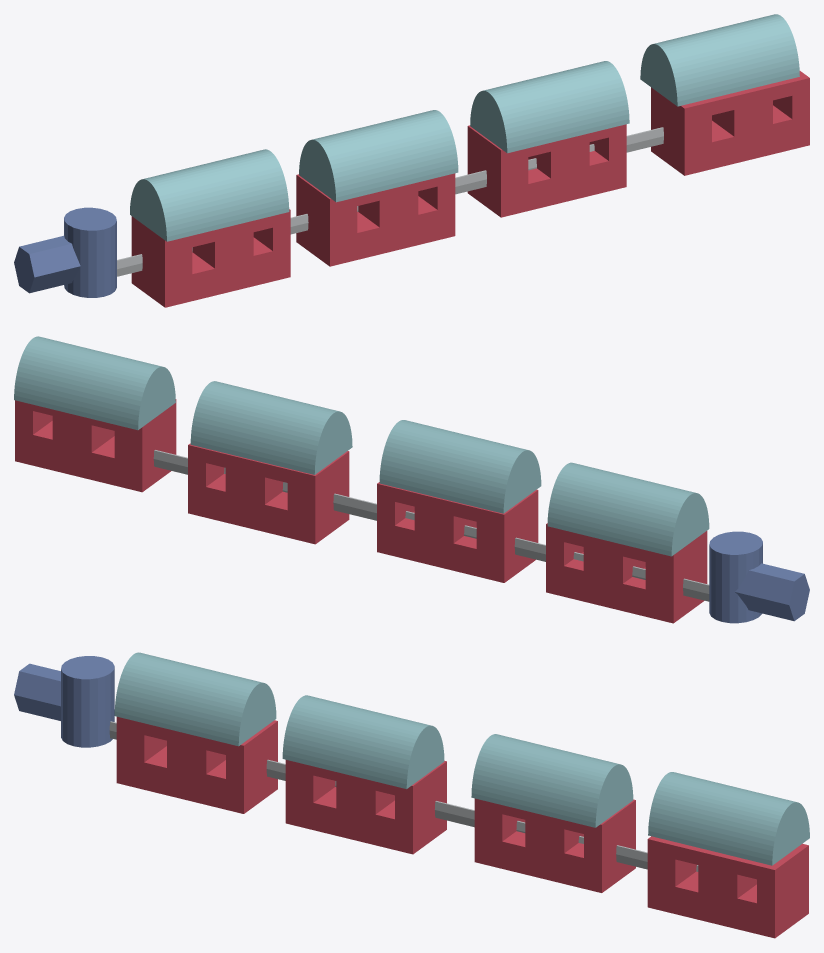
Rendered from pro150.glb.
3 renders of one model, top to bottom at view 1: azimuth 30°, elevation 25°; view 2: azimuth 150°, elevation 25°; view 3: azimuth 330°, elevation 25°, orthographic.
Visible parts, largest first — view 1: Mesh_Mesh_head_geo.001_lambert2SG.001; view 2: Mesh_Mesh_head_geo.001_lambert2SG.001; view 3: Mesh_Mesh_head_geo.001_lambert2SG.001.
Part boxes in pixels (bbox=[...]): Mesh_Mesh_head_geo.001_lambert2SG.001: bbox=[14, 14, 809, 307]; Mesh_Mesh_head_geo.001_lambert2SG.001: bbox=[14, 336, 809, 623]; Mesh_Mesh_head_geo.001_lambert2SG.001: bbox=[14, 652, 809, 938].
Size of the model in its own units: 237 by 35 by 25.
